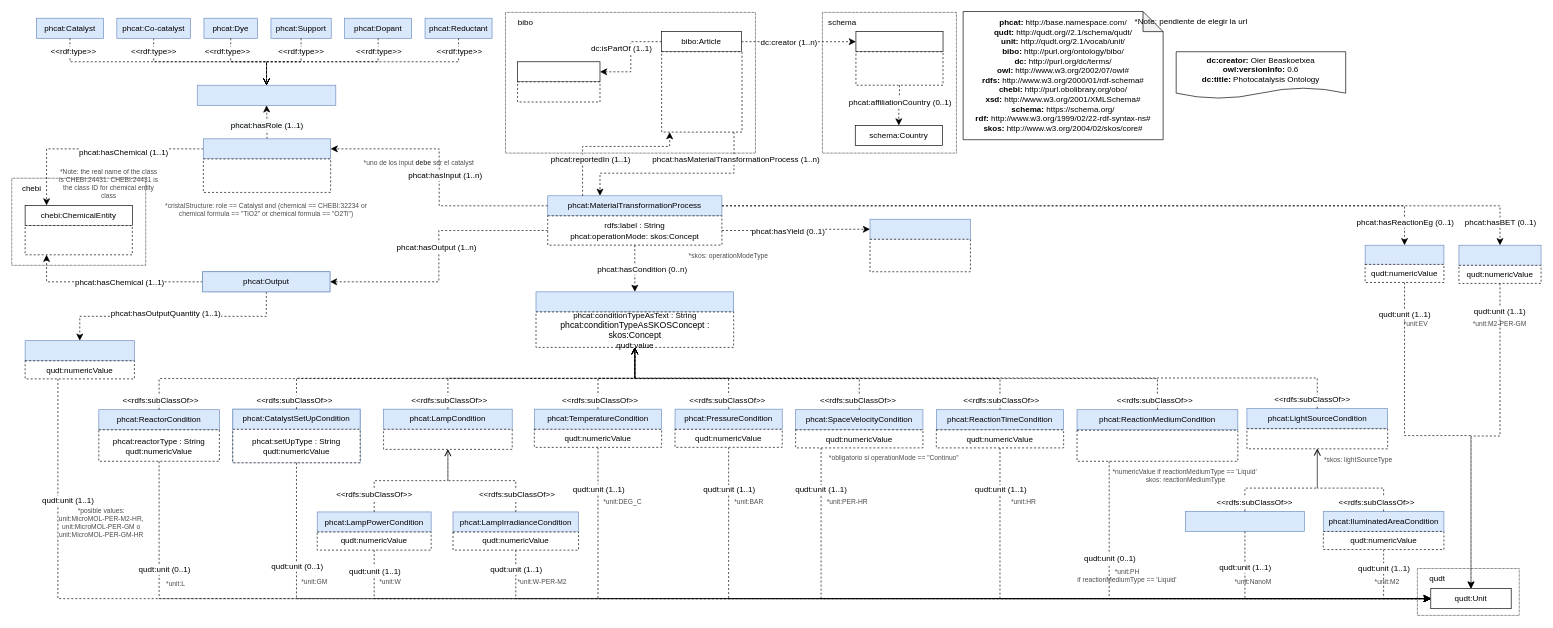
The diagram is 1553 pixels wide and 628 high, and some of its shapes have lost their labels. The box of each missing label's shape, as (x1, y1, x2, y2) in pixels:
bibo:doi bibo:abstract bibo:volume dc:title bibo:issue dc:date bibo:pageStart: (661, 51, 742, 132)
bibo:Journal: (517, 61, 600, 82)
dc:title: (517, 81, 600, 102)
phcat:BET: (1458, 245, 1541, 265)
phcat:Condition: (535, 291, 734, 312)
phcat:Eg: (1364, 245, 1444, 264)
phcat:Input: (203, 138, 331, 159)
phcat:lampType : String: (383, 429, 512, 449)
phcat:lightSourceType : skos:Concept: (1246, 428, 1388, 449)
phcat:MaterialTransformationRole: (197, 85, 336, 105)
phcat:OutputQuantity: (24, 340, 134, 361)
phcat:percentage : Double phcat:cristalStructure : String: (203, 158, 331, 192)
phcat:reactionMediumType : skos:Concept qudt:numericValue: (1076, 430, 1238, 461)
phcat:WavelengthCondition: (1185, 511, 1304, 531)
phcat:Yield: (869, 219, 970, 239)
phcat:yieldType : String qudt:floatPercentage: (869, 239, 970, 272)
rdfs:label chebi:formula : String: (24, 225, 132, 255)
schema:name schema:email: (855, 51, 943, 85)
schema:Person: (855, 31, 943, 52)
